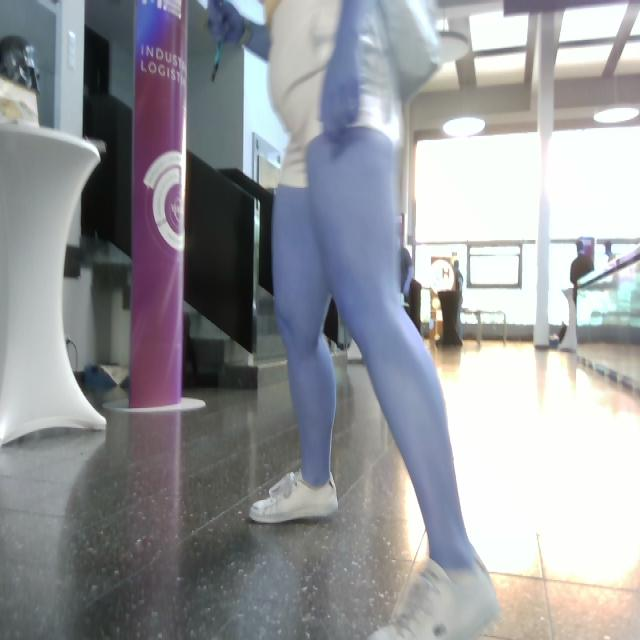light bulb: (1, 120, 108, 446), (593, 74, 640, 125), (442, 85, 486, 138), (436, 30, 470, 64), (593, 105, 640, 125), (443, 117, 486, 138)
person: (205, 1, 502, 640)
pillar: (129, 1, 189, 409), (533, 10, 563, 349)
tiled floor: (2, 335, 639, 639)
